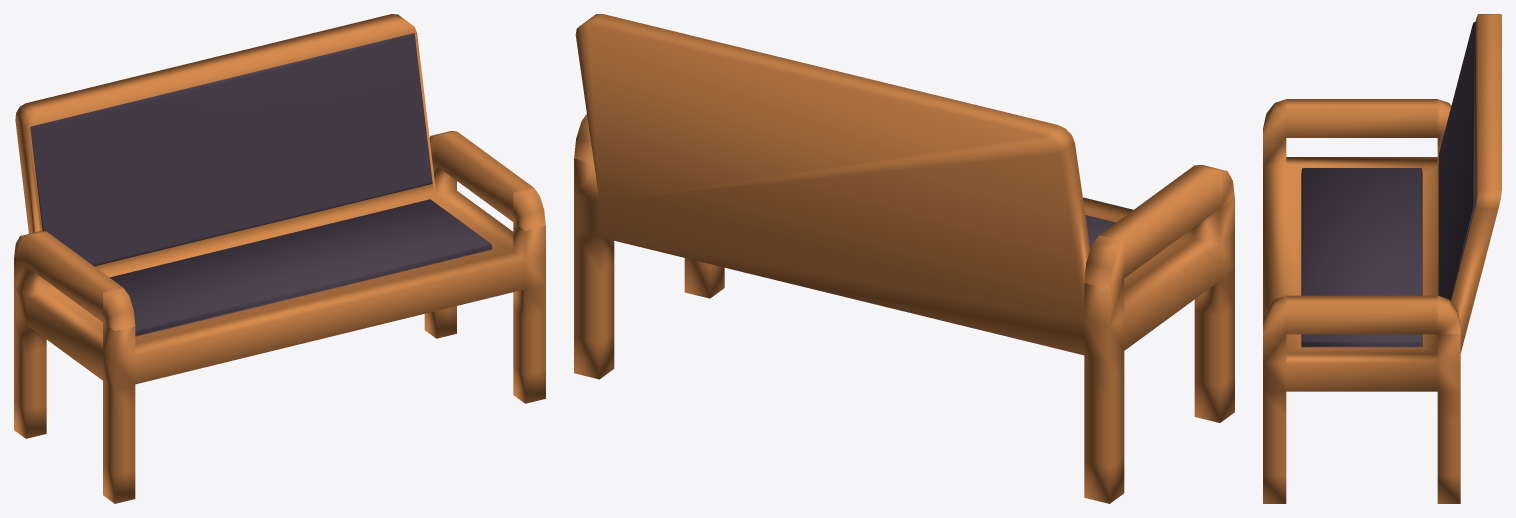
The model's file is koltuk.fbx.
3 views of the same model, side by side, from view 1: azimuth 30°, elevation 25°; view 2: azimuth 150°, elevation 25°; view 3: azimuth 270°, elevation 25° (orthographic). The views are drawn at different scales.
Visible parts, largest first — view 1: Cube.002; view 2: Cube.002; view 3: Cube.002.
Boxes of the visible parts, bbox=[...] form: Cube.002: bbox=[14, 14, 545, 503]; Cube.002: bbox=[574, 14, 1234, 503]; Cube.002: bbox=[1263, 14, 1501, 503].
Size of the model in its own units: 315 by 212 by 154.
